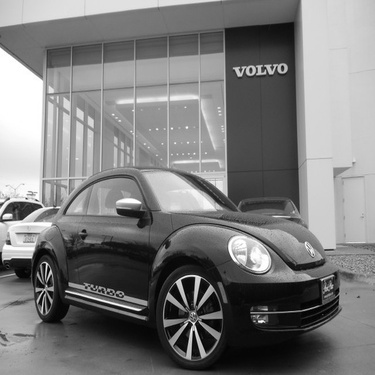car: (22, 152, 354, 368), (2, 198, 84, 273), (4, 185, 51, 262)
